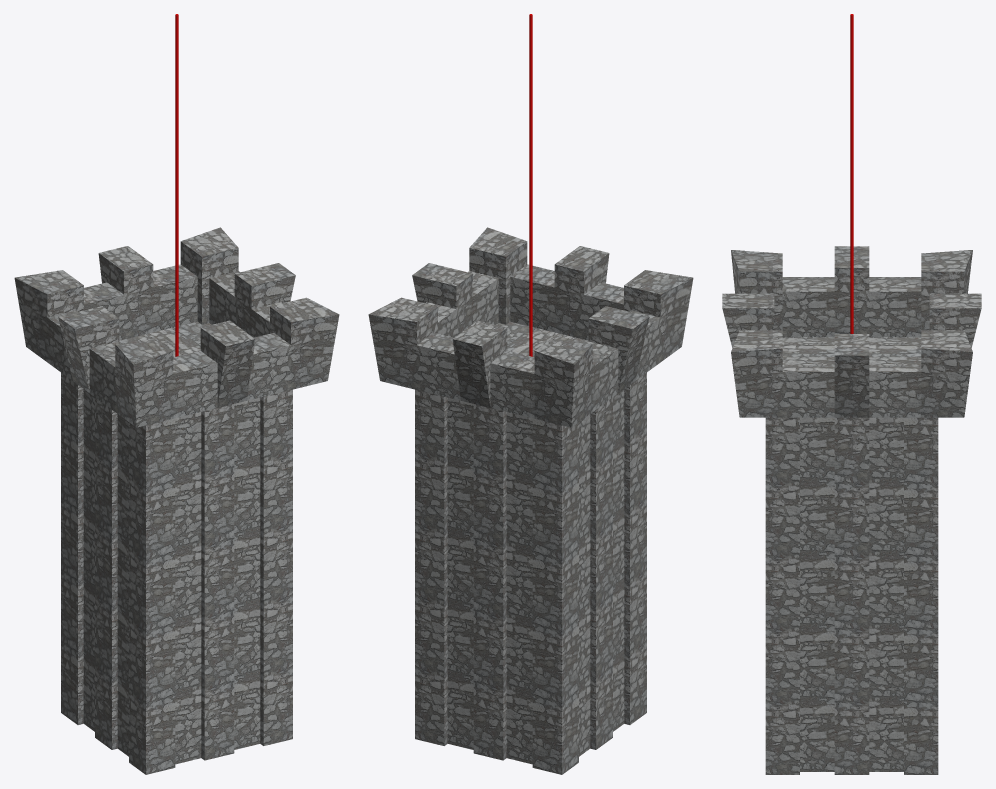
File: Stolp.fbx
3 renders of one model, left to right at view 1: azimuth 30°, elevation 25°; view 2: azimuth 150°, elevation 25°; view 3: azimuth 270°, elevation 25°, orthographic.
Visible parts, largest first — view 1: Cube.011; view 2: Cube.011; view 3: Cube.011.
Boxes of the visible parts, x1=… form: Cube.011: x1=14, y1=14, x2=339, y2=774; Cube.011: x1=368, y1=14, x2=693, y2=774; Cube.011: x1=722, y1=14, x2=981, y2=774.
Bounding box in the file's own units: 1500 × 4618 × 1500.
